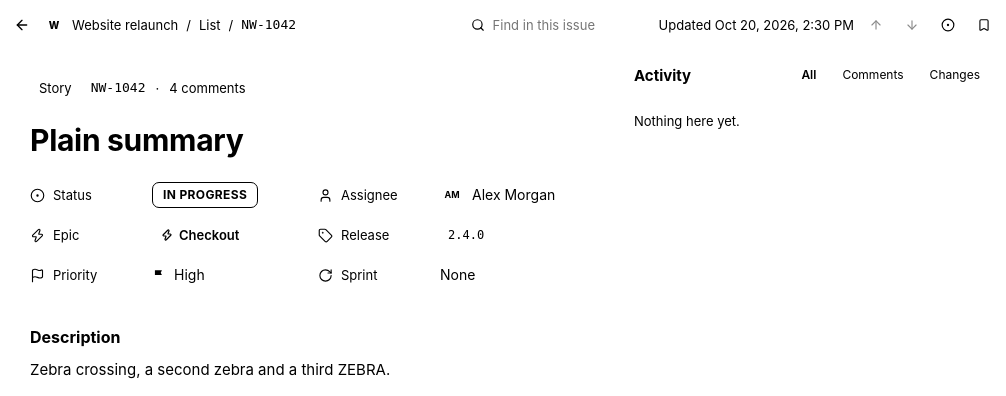
Test: Find in this issue › Enter › starts over at the first match when the words change
The image size is (1006, 396).
Expected: the heading "Plain summary" is shown, [30,122,243,158]
In the field labelled "Find in this issue": (546, 25) [491,15,601,35], type "zebra"
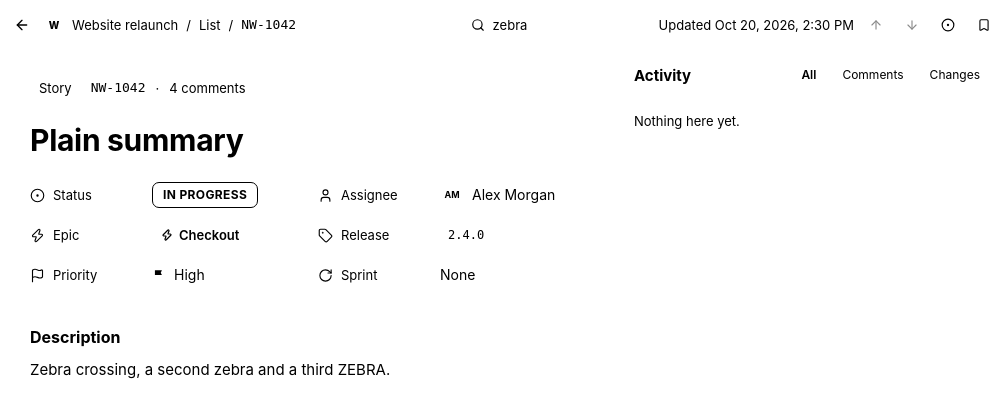
Press Enter Enter
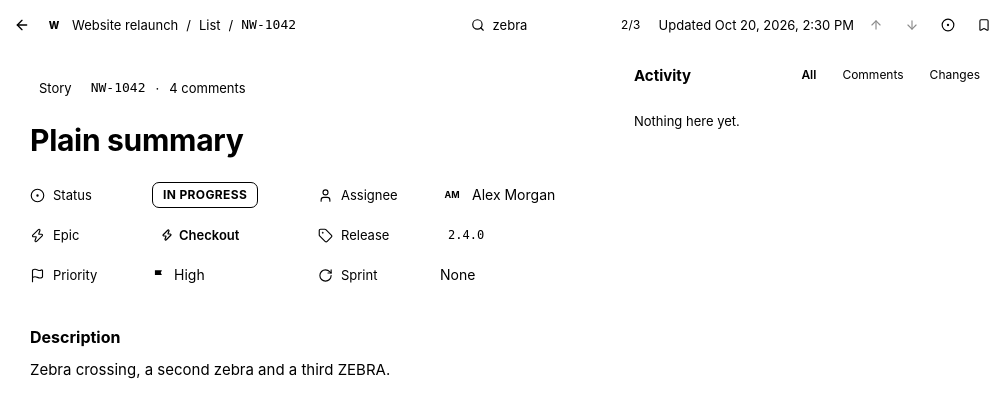
Result: the text "2/3" is shown at [621,17,641,32]
In the field named "Find in this issue": (546, 25) [491,15,601,35], type " crossing"
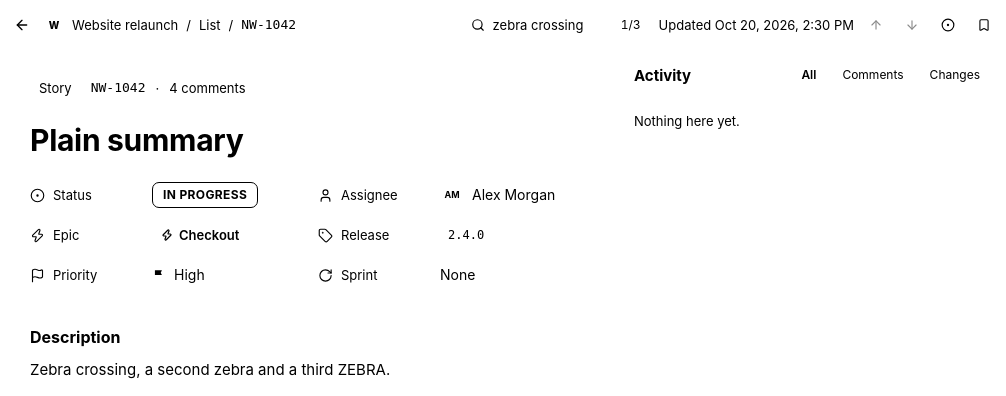
Result: the text "1/3" is shown at [621,17,641,32]
